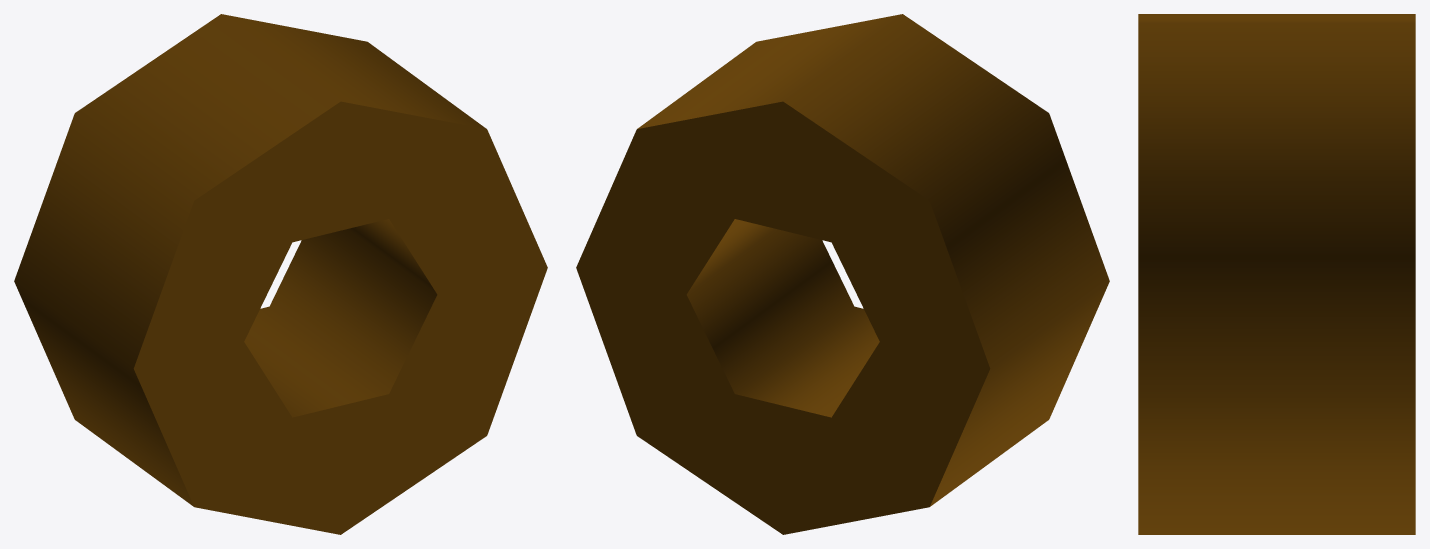
Rendered from Pallier barillet arriere (12_5.5).obj.
3 renders of one model, left to right at view 1: azimuth 30°, elevation 25°; view 2: azimuth 150°, elevation 25°; view 3: azimuth 270°, elevation 25°, orthographic. The views are drawn at different scales.
Visible parts, largest first — view 1: Face_2, Face_3, Face_4; view 2: Face_1, Face_3, Face_4; view 3: Face_3.
Boxes of the visible parts, <box> form: Face_2: <box>133,101,547,534</box>; Face_3: <box>14,14,486,506</box>; Face_4: <box>244,219,437,417</box>; Face_1: <box>576,101,990,534</box>; Face_3: <box>637,14,1109,506</box>; Face_4: <box>686,219,879,417</box>; Face_3: <box>1138,14,1415,534</box>.
Size of the model in its own units: 0.012 by 0.012 by 0.006.
